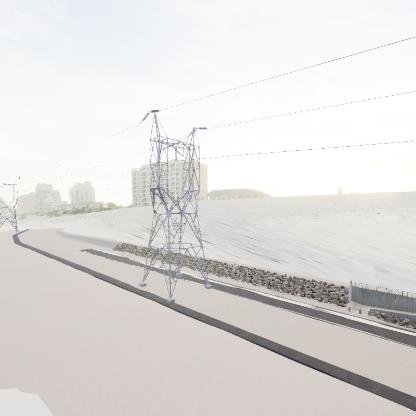tower: (134, 108, 215, 306)
